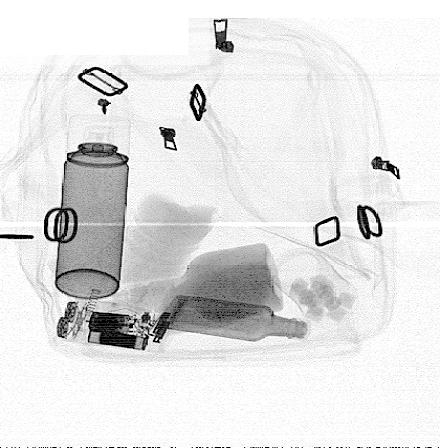Sprayer: (54, 113, 133, 302)
